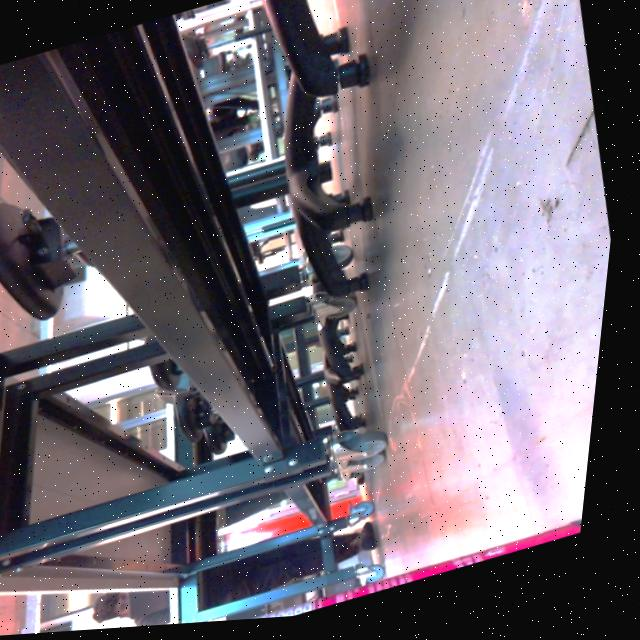redpringles: (36, 493, 597, 635)
